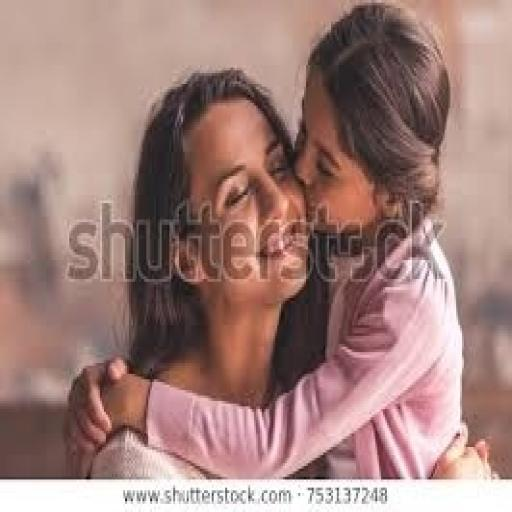hugging: (61, 0, 494, 479)
